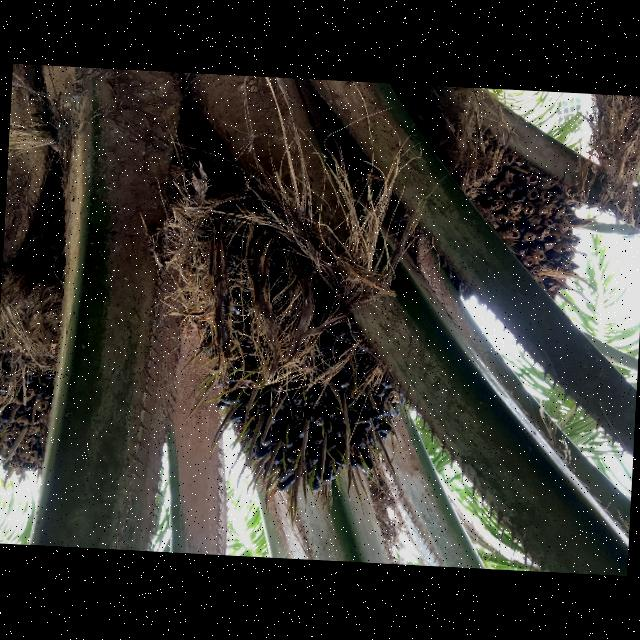Unripe: (196, 250, 397, 493)
